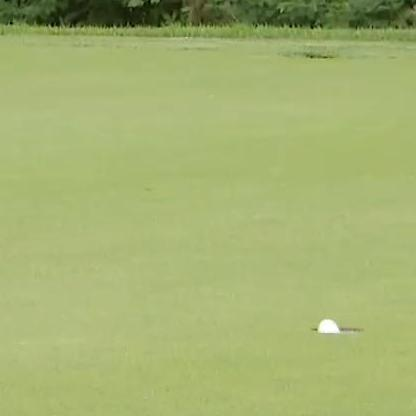golfball: (315, 316, 338, 334)
